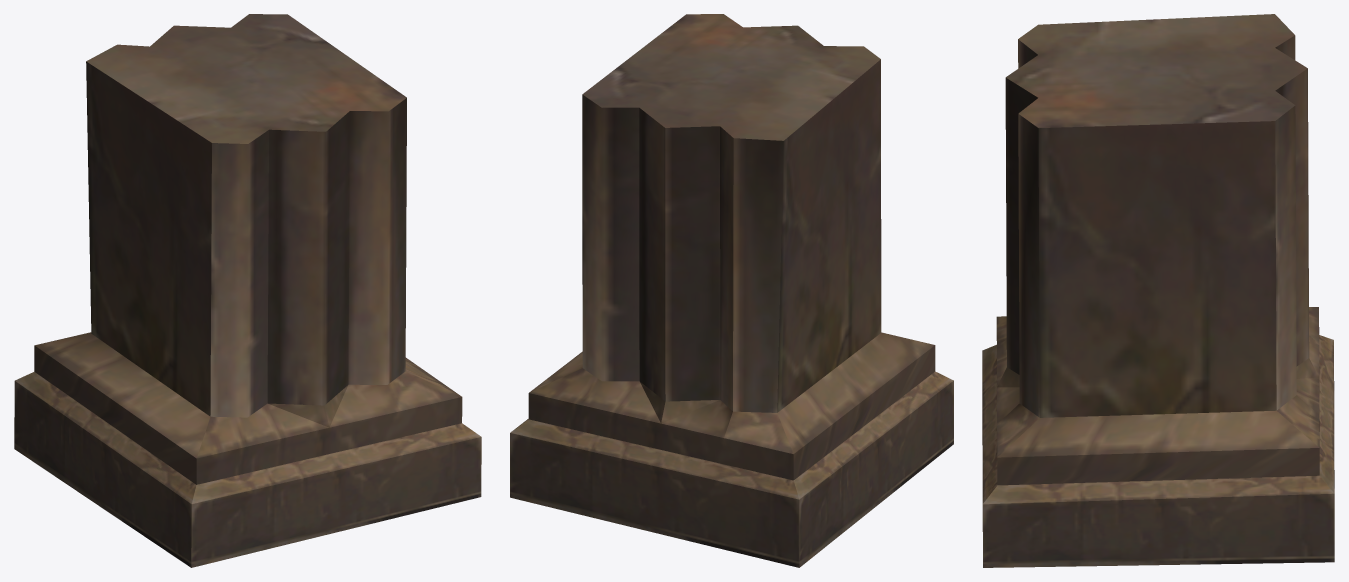
The model's file is rysd_zhuzi_02.FBX.
3 renders of one model, left to right at view 1: azimuth 30°, elevation 25°; view 2: azimuth 150°, elevation 25°; view 3: azimuth 270°, elevation 25°, orthographic. The views are drawn at different scales.
Visible parts, largest first — view 1: rysd_zhuzi_02; view 2: rysd_zhuzi_02; view 3: rysd_zhuzi_02.
Boxes of the visible parts, x1,y1,x2,y2 form: rysd_zhuzi_02: (14,14,481,567); rysd_zhuzi_02: (510,14,953,567); rysd_zhuzi_02: (982,14,1334,567).
Size of the model in its own units: 223 by 281 by 213.
